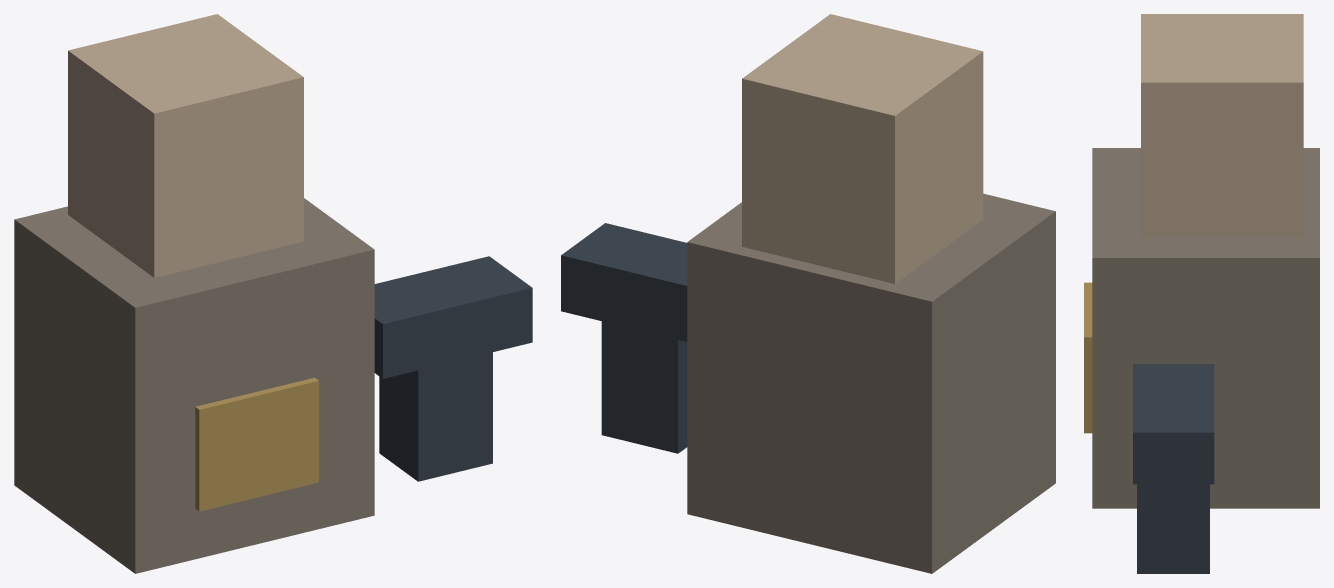
Rendered from forge.glb.
3 views of the same model, side by side, from view 1: azimuth 30°, elevation 25°; view 2: azimuth 150°, elevation 25°; view 3: azimuth 270°, elevation 25° (orthographic). The views are drawn at different scales.
Parts seen in each view (by area): view 1: forge; view 2: forge; view 3: forge.
Part boxes in pixels (bbox=[...]): forge: bbox=[14, 14, 532, 573]; forge: bbox=[561, 14, 1055, 573]; forge: bbox=[1084, 14, 1319, 573].
Size of the model in its own units: 2.8 by 2.75 by 1.45.
